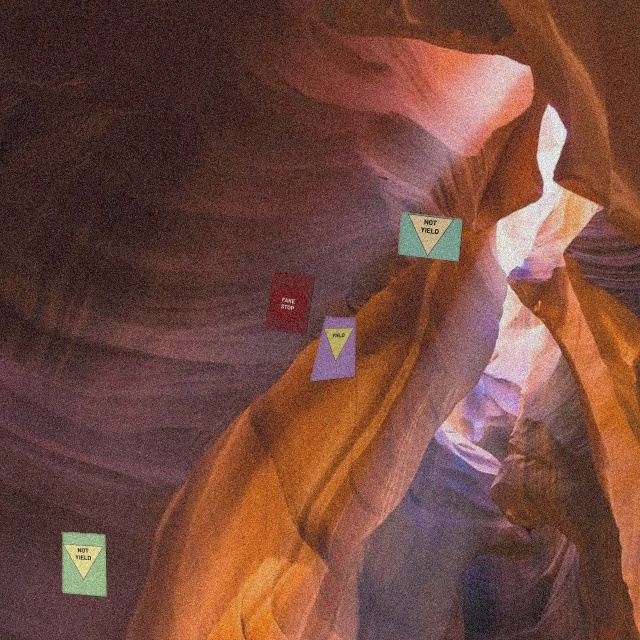FAKE_STOP: (267, 281, 309, 325)
NOT_YIELD: (405, 214, 454, 259), (63, 543, 104, 581)
YIELD: (316, 328, 353, 363)
